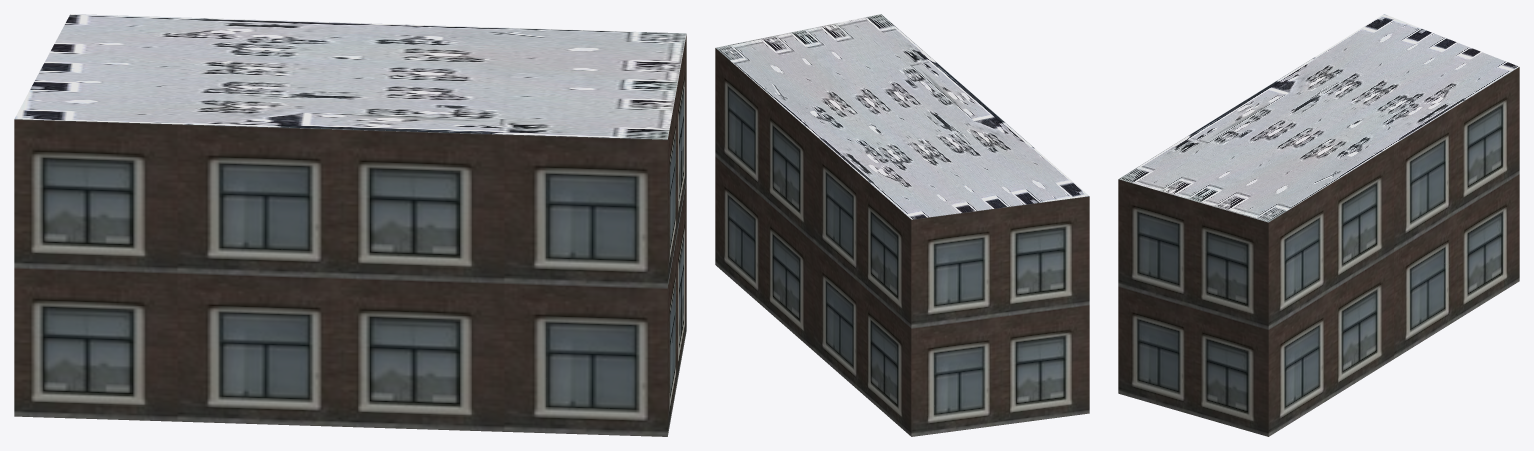
Rendered from ResTex__2406.fbx.
The picture shows the model from 3 angles, left to right: view 1: azimuth 30°, elevation 25°; view 2: azimuth 150°, elevation 25°; view 3: azimuth 270°, elevation 25°; orthographic projection. The views are drawn at different scales.
Parts seen in each view (by area): view 1: CityEngineMaterial_16_m, CityEngineMaterial_15_m; view 2: CityEngineMaterial_16_m, CityEngineMaterial_15_m; view 3: CityEngineMaterial_16_m, CityEngineMaterial_15_m.
Boxes of the visible parts, x1,y1,x2,y2 form: CityEngineMaterial_16_m: (14,34,686,436); CityEngineMaterial_15_m: (14,14,686,139); CityEngineMaterial_16_m: (715,48,1089,436); CityEngineMaterial_15_m: (715,14,1089,219); CityEngineMaterial_16_m: (1118,67,1519,436); CityEngineMaterial_15_m: (1118,14,1519,222).
Bounding box in the file's own units: 12.51 × 6 × 10.17.
Materials: 2 (2 with a texture image).
